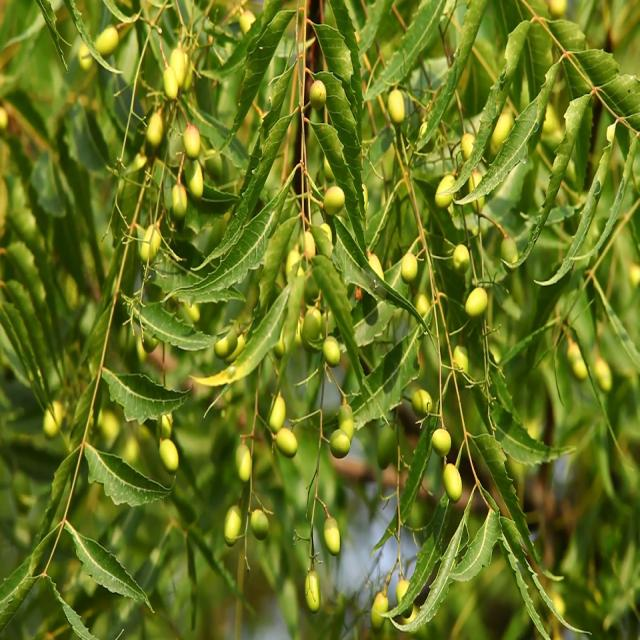Medicinal-Neem: (34, 0, 620, 639)
